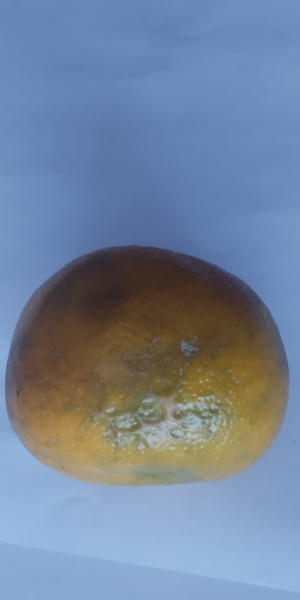BAD: (9, 252, 297, 493)
